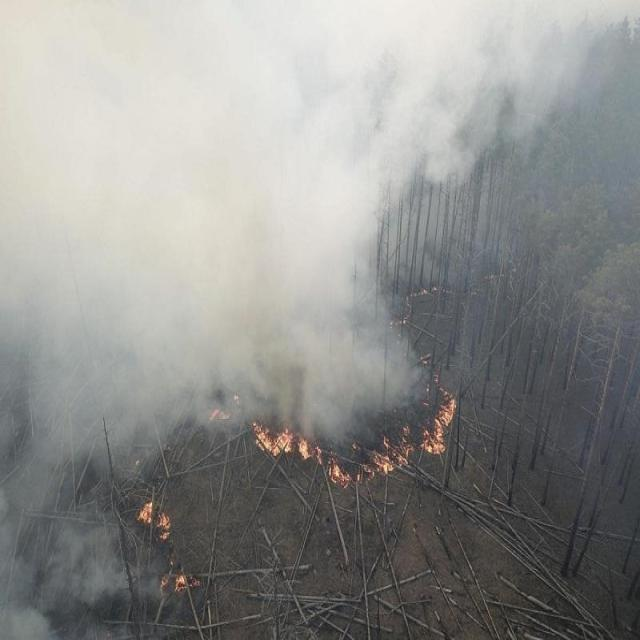Fire: (424, 393, 456, 450), (374, 438, 411, 473), (251, 426, 293, 456), (328, 456, 349, 483), (294, 434, 312, 459), (157, 511, 171, 540), (137, 503, 153, 525)
